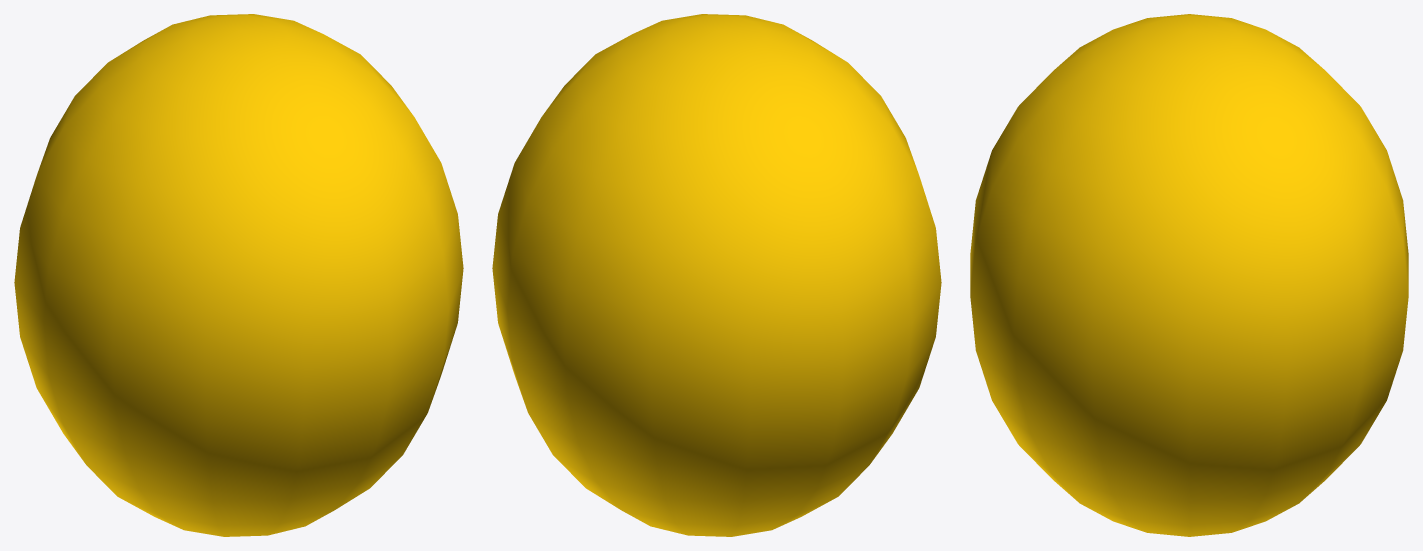
File: Trovoraptor_stage3.obj
3 renders of one model, left to right at view 1: azimuth 30°, elevation 25°; view 2: azimuth 150°, elevation 25°; view 3: azimuth 270°, elevation 25°, orthographic.
Bounding box in the file's own units: 2.6 × 3.12 × 2.53.
